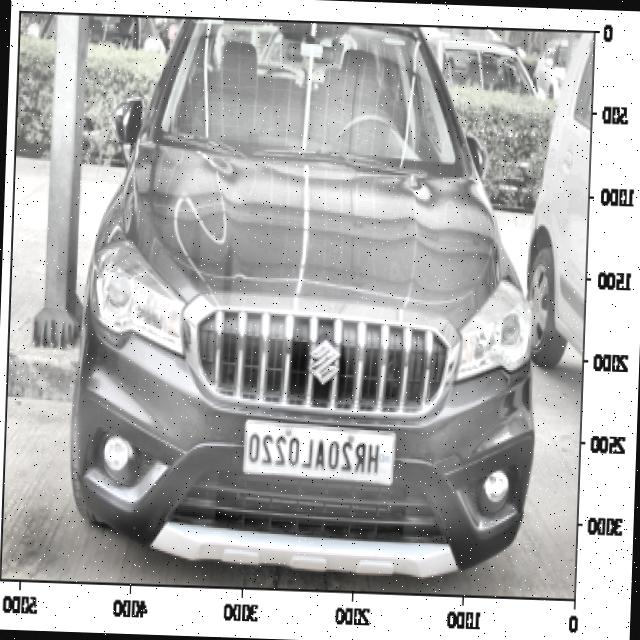license_plate: (241, 423, 388, 484)
